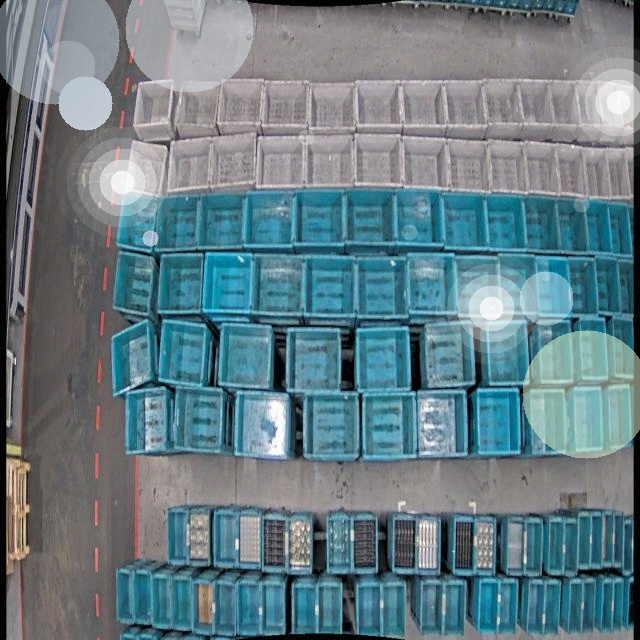Box: (216, 322, 274, 391), (355, 324, 412, 391), (362, 391, 417, 460), (302, 393, 358, 459), (233, 392, 289, 458), (422, 320, 474, 391), (174, 382, 225, 453), (286, 327, 340, 394), (157, 320, 209, 388), (110, 318, 153, 400), (123, 386, 172, 456), (155, 249, 204, 319), (252, 253, 304, 318), (344, 186, 396, 251), (355, 257, 410, 318), (201, 252, 254, 315), (303, 257, 357, 318), (418, 391, 467, 457), (293, 187, 345, 248), (152, 193, 202, 255), (409, 252, 456, 317), (165, 138, 214, 200), (111, 251, 156, 318), (484, 320, 529, 386), (210, 132, 256, 196), (394, 190, 443, 250), (245, 189, 294, 249), (198, 192, 247, 252), (477, 388, 520, 456), (454, 254, 499, 318), (216, 78, 265, 136), (256, 136, 306, 192), (115, 192, 159, 255), (173, 77, 219, 137), (355, 132, 403, 189), (443, 190, 488, 250), (497, 254, 539, 318), (262, 78, 308, 136), (123, 140, 168, 199), (306, 132, 353, 188), (308, 78, 356, 132), (401, 78, 445, 136), (404, 136, 448, 193), (444, 78, 487, 136), (356, 77, 402, 130), (483, 77, 522, 139), (529, 391, 566, 456), (135, 80, 174, 141), (536, 319, 572, 383), (448, 137, 489, 193), (487, 142, 528, 195), (522, 142, 562, 195), (536, 257, 570, 319), (576, 317, 608, 382), (486, 195, 524, 249), (524, 196, 560, 251), (572, 388, 602, 452), (549, 81, 580, 142), (520, 79, 551, 139), (606, 384, 632, 452), (556, 144, 588, 199), (557, 197, 588, 253), (213, 507, 238, 571), (578, 80, 604, 141), (570, 258, 598, 314), (585, 197, 613, 253), (352, 512, 377, 574), (287, 512, 312, 574), (188, 502, 212, 566), (260, 580, 286, 638), (598, 82, 623, 142), (416, 517, 441, 575), (392, 513, 417, 571), (327, 514, 351, 574), (604, 146, 630, 201), (316, 582, 343, 634), (596, 258, 621, 314), (583, 147, 611, 197), (612, 315, 634, 378), (453, 514, 476, 574), (238, 509, 261, 569), (167, 508, 190, 568), (420, 581, 446, 634), (382, 583, 406, 640), (237, 580, 260, 638), (475, 516, 497, 576), (522, 516, 543, 578), (262, 514, 284, 573), (443, 582, 467, 636), (357, 581, 381, 635), (292, 584, 316, 634), (478, 580, 500, 634), (214, 582, 236, 636), (192, 580, 214, 634), (504, 516, 524, 575), (610, 203, 631, 257), (498, 580, 518, 634), (172, 576, 192, 630), (542, 581, 561, 637), (527, 580, 545, 636), (562, 516, 578, 578), (114, 569, 132, 624), (134, 570, 152, 624), (152, 575, 170, 628), (567, 578, 584, 634), (580, 579, 596, 637), (618, 259, 634, 316), (576, 510, 591, 570), (618, 85, 633, 145), (547, 518, 562, 576), (620, 515, 634, 575), (610, 578, 624, 633), (600, 580, 614, 634), (600, 510, 612, 570), (590, 510, 601, 570), (610, 511, 622, 564), (625, 576, 634, 630)
